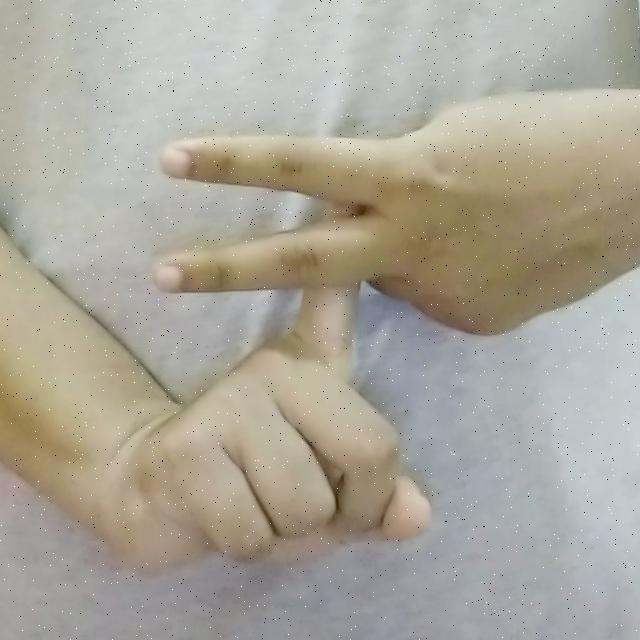F: (31, 77, 630, 586)
